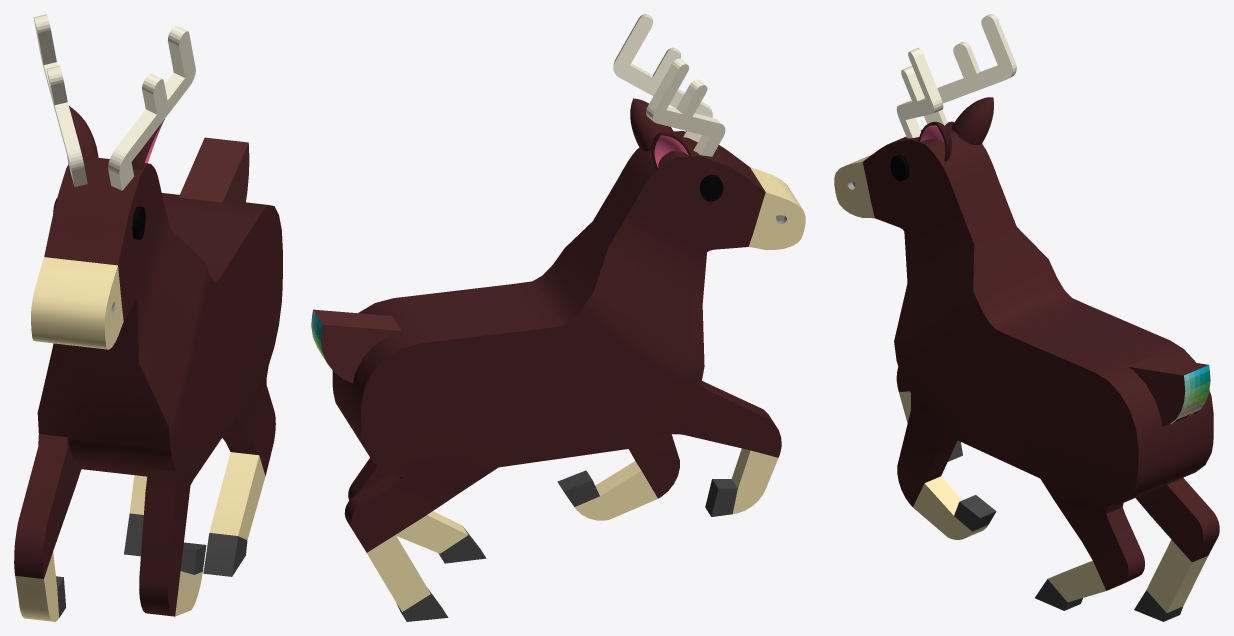
File: deer.glb
3 renders of one model, left to right at view 1: azimuth 30°, elevation 25°; view 2: azimuth 150°, elevation 25°; view 3: azimuth 270°, elevation 25°, orthographic. The views are drawn at different scales.
Visible parts, largest first — view 1: Plane.115, Cube.6219, Cube.6221, Circle.1883; view 2: Plane.115, Cube.6219, Cube.6221; view 3: Plane.115, Cube.6219, Cube.6221.
Part boxes in pixels (x1,y1,x2,y2): Plane.115: (14,157,282,621); Cube.6219: (33,14,195,190); Cube.6221: (178,137,249,202); Circle.1883: (53,198,145,239); Plane.115: (332,131,805,621); Cube.6219: (613,14,725,169); Cube.6221: (311,309,401,383); Plane.115: (834,121,1219,621); Cube.6219: (896,14,1016,161); Cube.6221: (1128,356,1210,426).
Size of the model in its own units: 1.63 by 2.45 by 1.65.
1 material, 1 textured.
